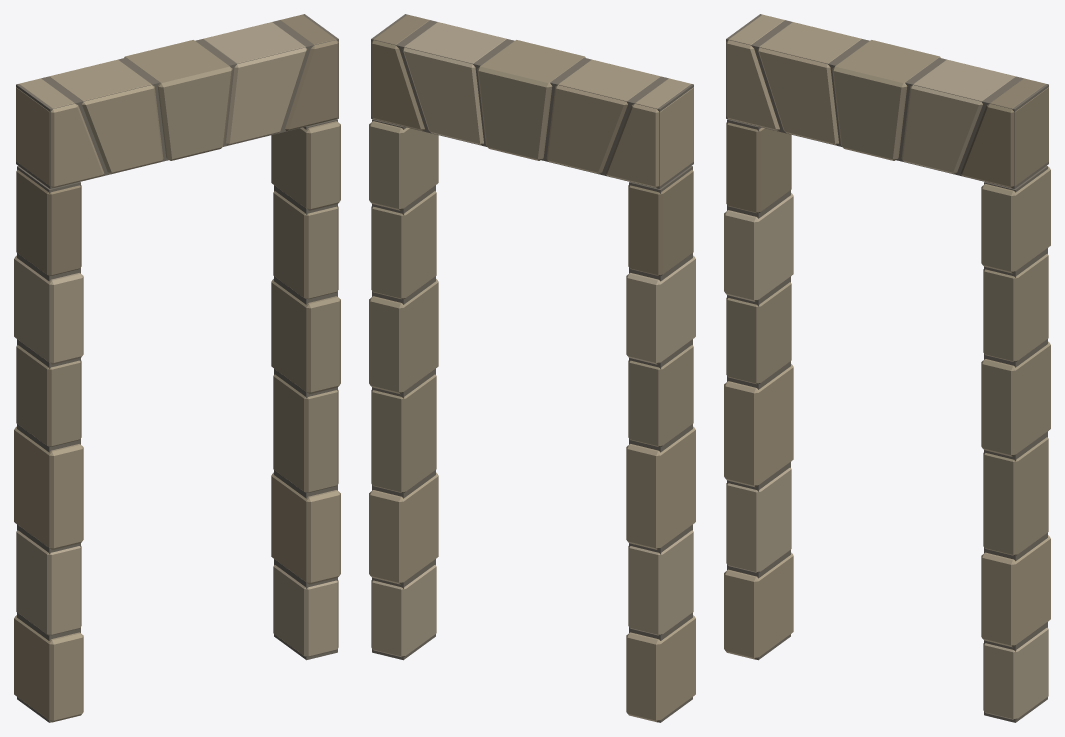
Rendered from marco-puerta.glb.
3 renders of one model, left to right at view 1: azimuth 30°, elevation 25°; view 2: azimuth 150°, elevation 25°; view 3: azimuth 330°, elevation 25°, orthographic.
Visible parts, largest first — view 1: MarcoSala_piedra; view 2: MarcoSala_piedra; view 3: MarcoSala_piedra.
Part boxes in pixels (left/top/right/bottom): MarcoSala_piedra: left=14, top=14, right=340, bottom=722; MarcoSala_piedra: left=369, top=14, right=695, bottom=722; MarcoSala_piedra: left=724, top=14, right=1050, bottom=722.
Size of the model in its own units: 1.18 by 2.38 by 0.28.
